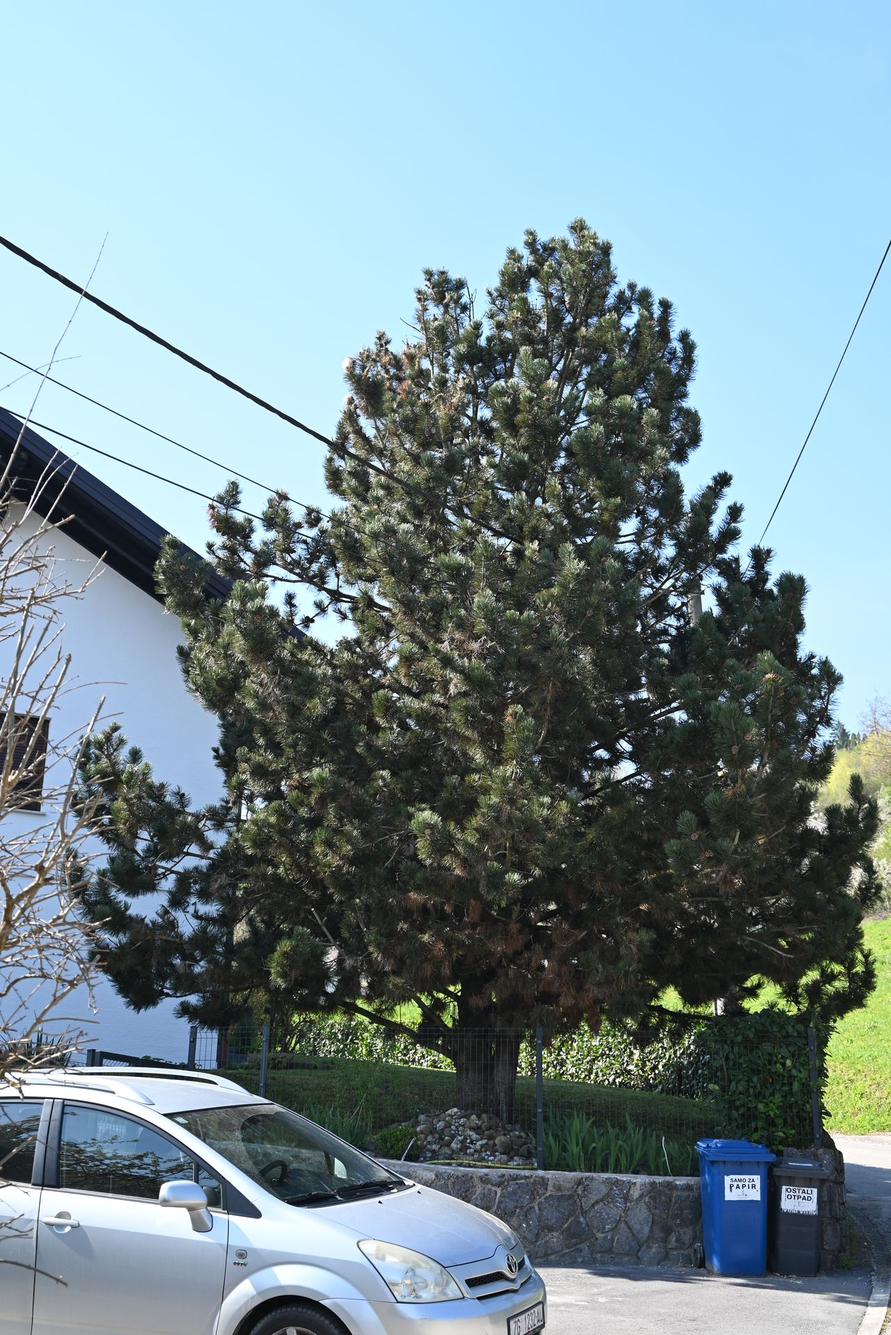thaumatopoea pityocampa jajno gnijezdo: (227, 920, 257, 949), (318, 944, 345, 964), (337, 353, 354, 373)
